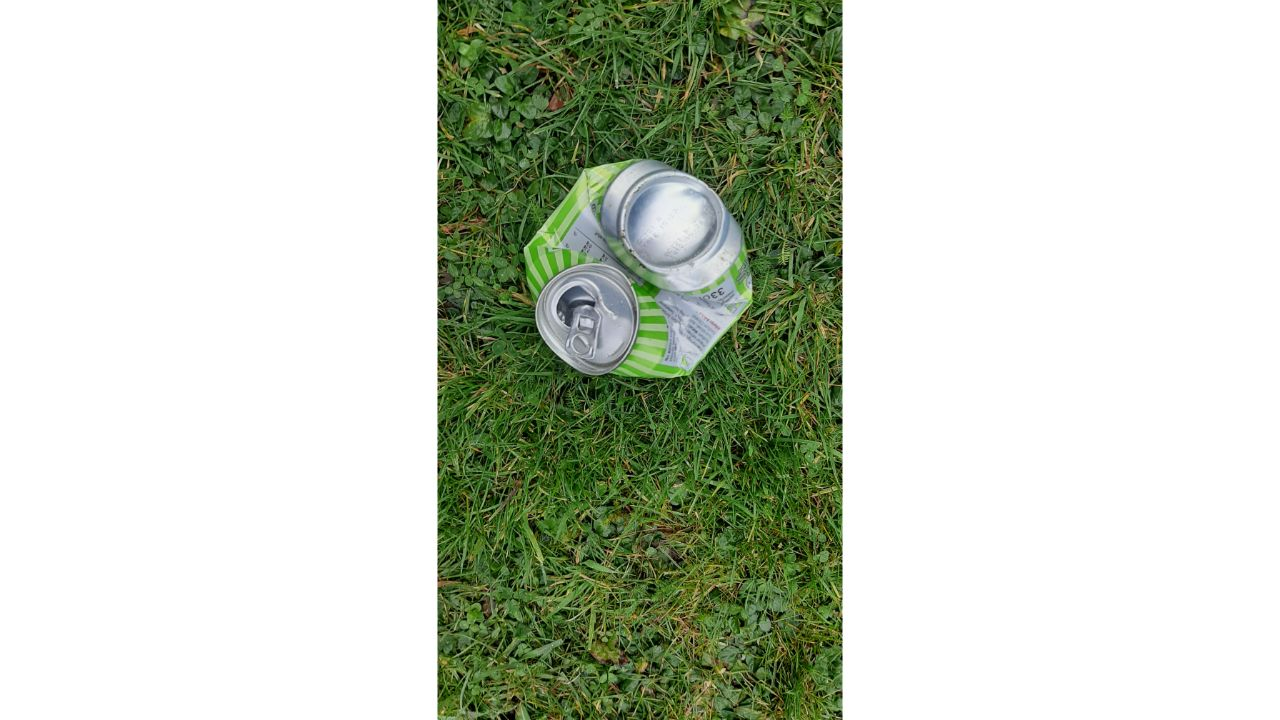Can: (522, 158, 754, 387)
